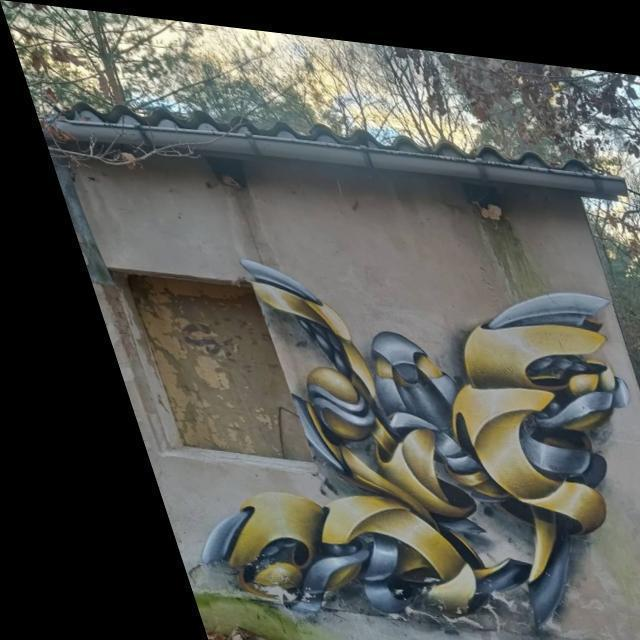nonspitting: (204, 265, 630, 640)
